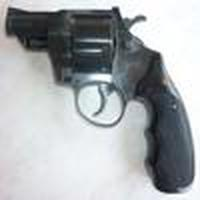gun: (3, 7, 198, 193)
